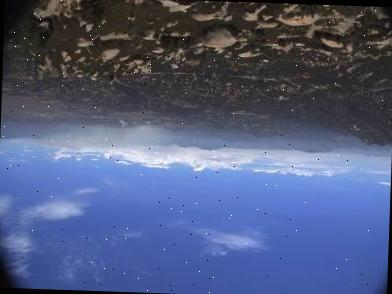smoke: (39, 115, 176, 162)
